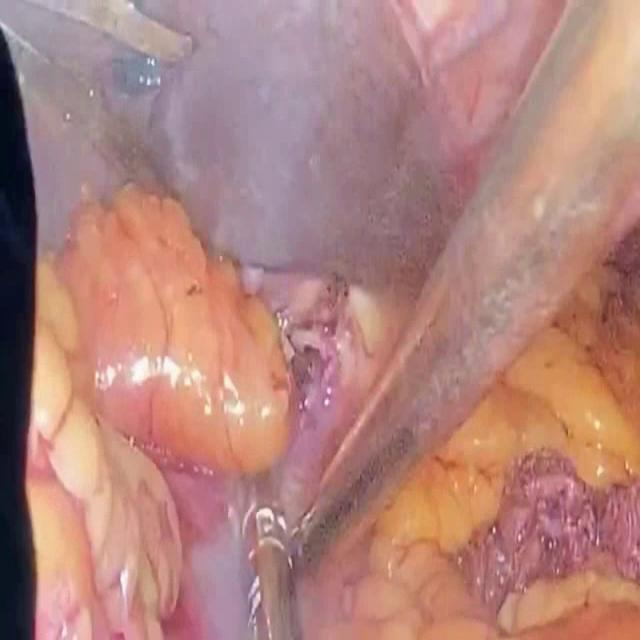surgical-area: (0, 0, 566, 639), (298, 221, 640, 639)
surgical-tool: (288, 0, 640, 603), (231, 474, 300, 639)
